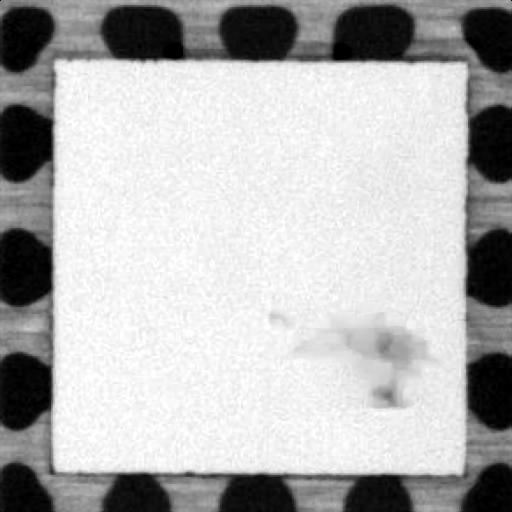DIE_INK: (236, 278, 464, 443)
